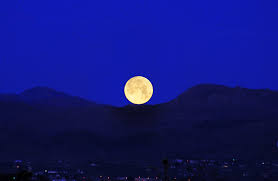moon: (124, 75, 154, 105)
